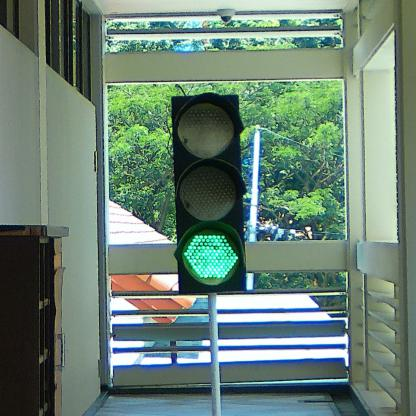green: (170, 93, 249, 295)
